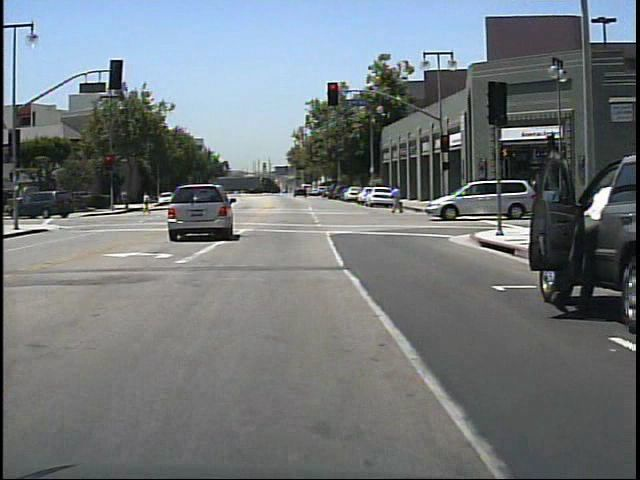person: (542, 157, 612, 317), (389, 182, 409, 217), (142, 189, 157, 217)
